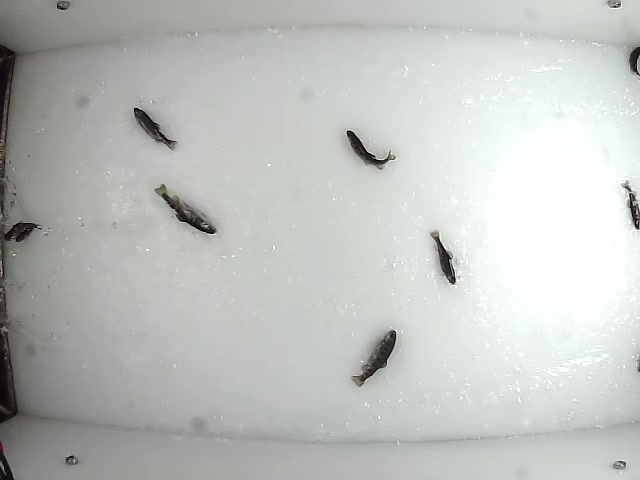fish: (153, 183, 219, 236), (347, 329, 397, 389), (132, 104, 179, 154), (344, 128, 397, 171), (427, 229, 459, 287), (619, 179, 639, 231), (3, 221, 40, 244)
